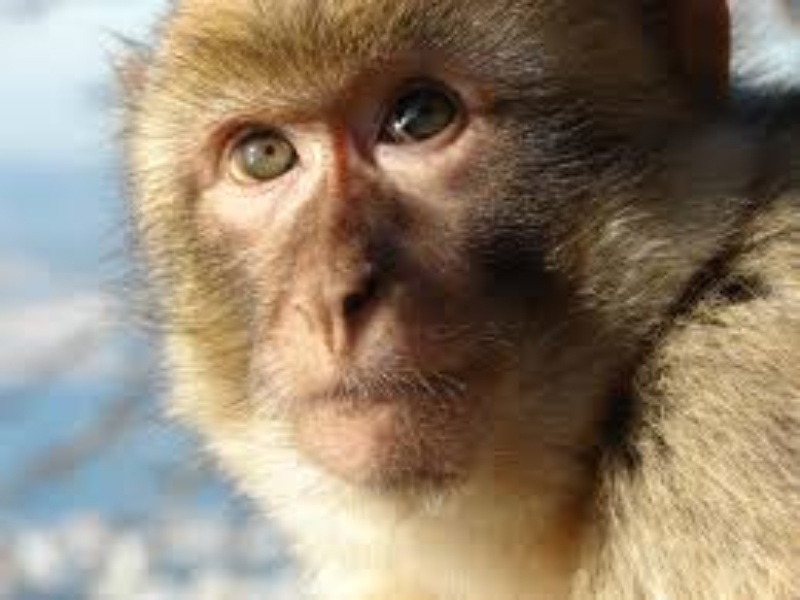monkey: (101, 1, 793, 576)
